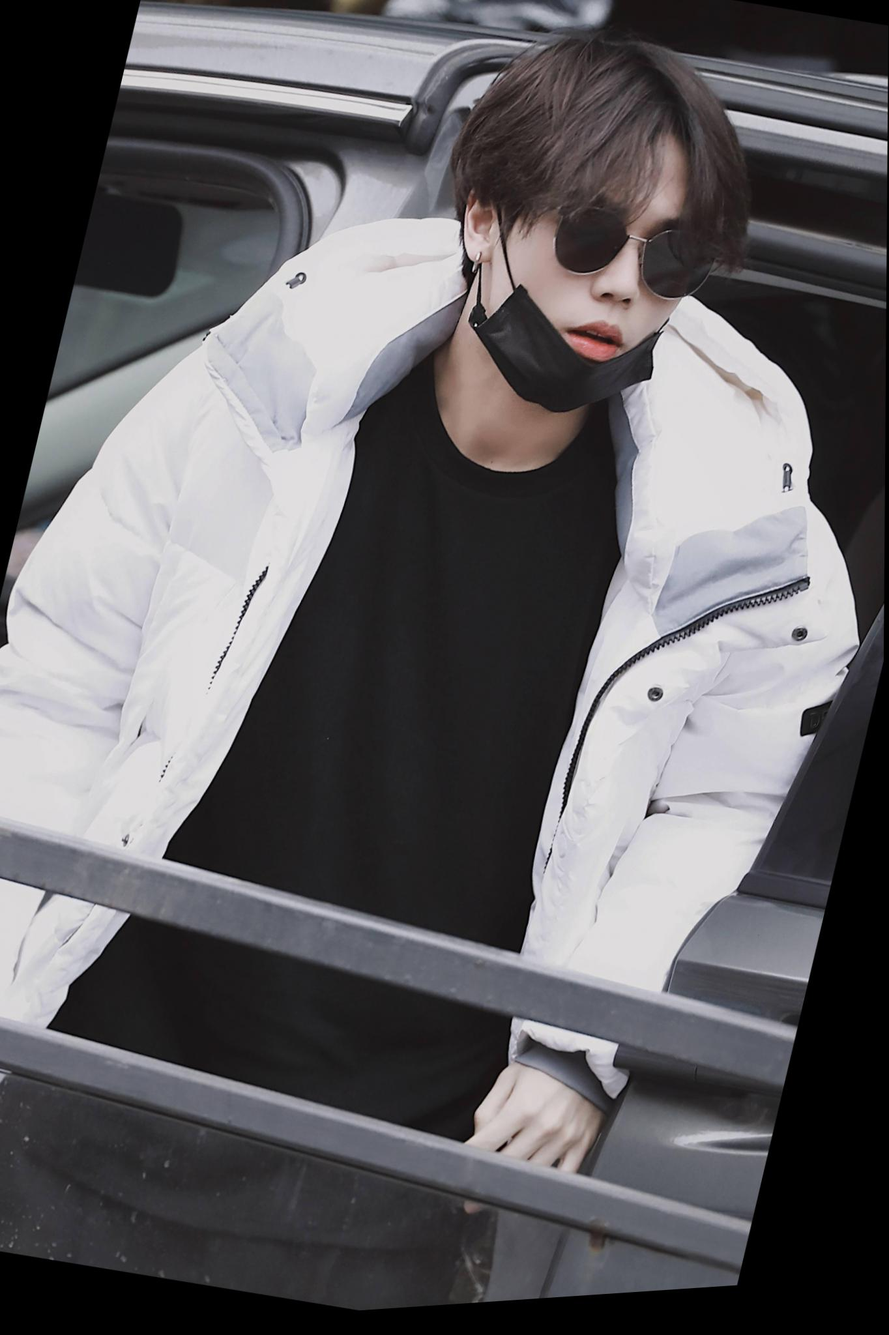WRONG: (472, 135, 714, 432)
